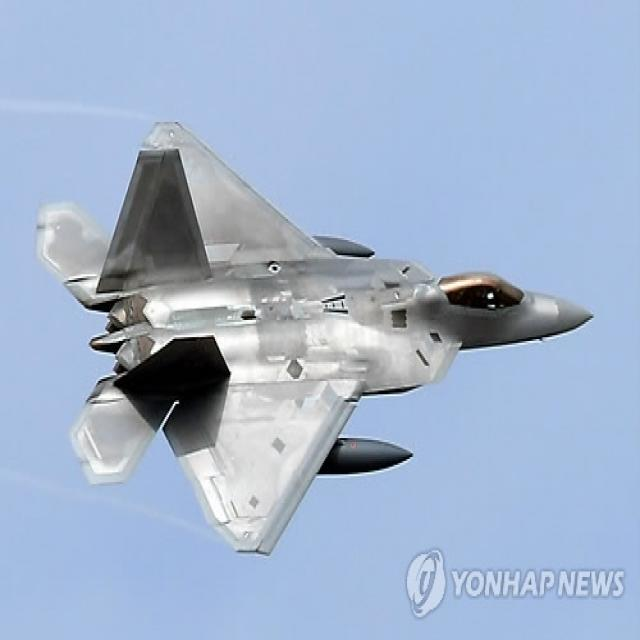F22: (39, 120, 592, 562)
